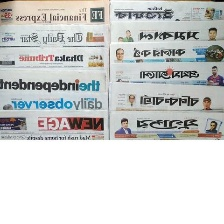news_paper: (110, 109, 224, 141), (0, 110, 110, 141), (108, 81, 223, 110), (107, 20, 224, 47), (108, 61, 224, 88), (107, 0, 224, 24), (107, 40, 223, 63), (0, 46, 111, 70), (0, 0, 109, 24), (0, 24, 111, 47), (0, 68, 109, 90), (0, 91, 109, 112)
